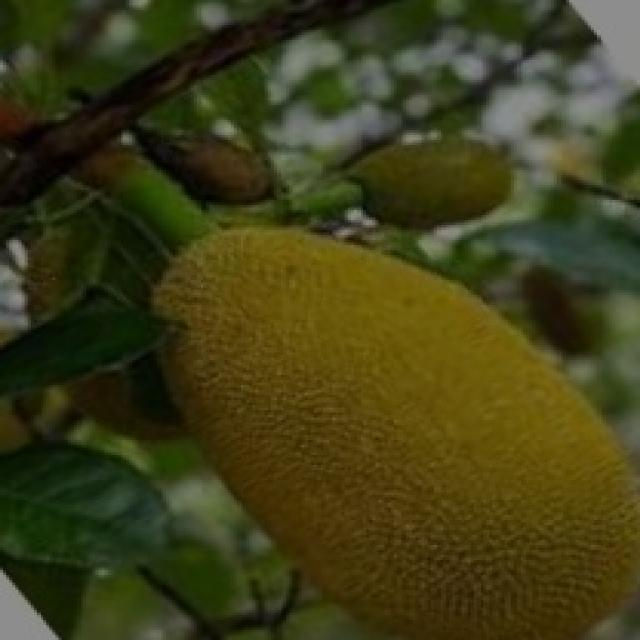Fruit: (317, 98, 535, 270)
